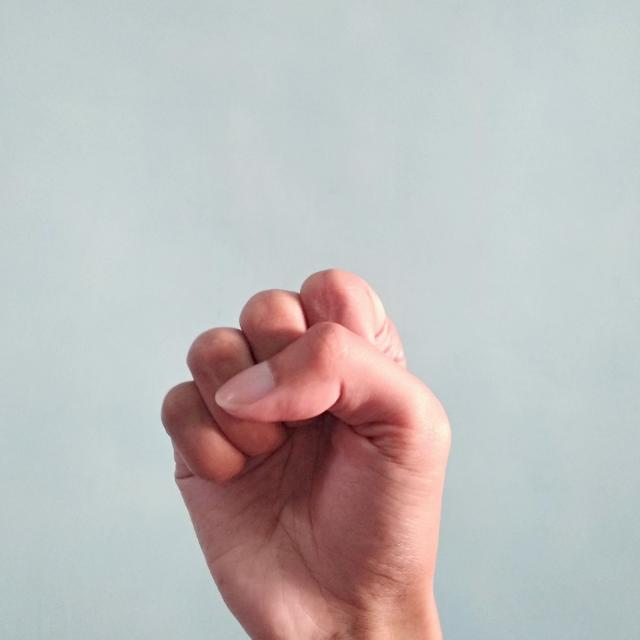S: (154, 260, 460, 640)
